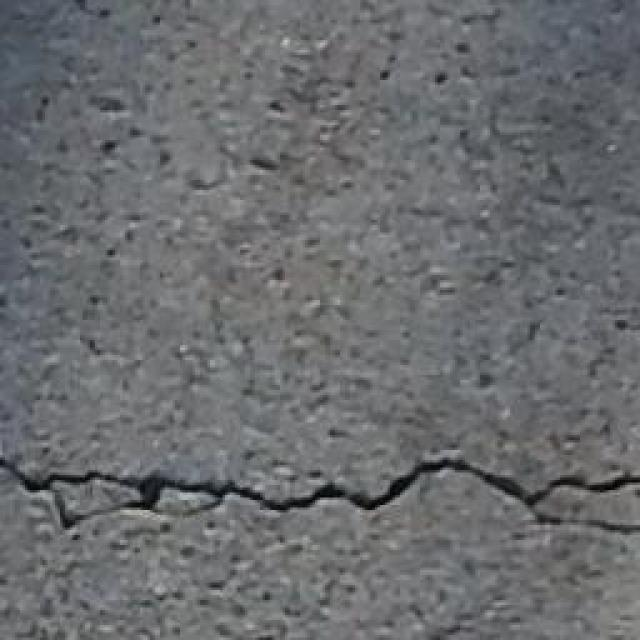concrete-crack: (4, 452, 640, 542)
